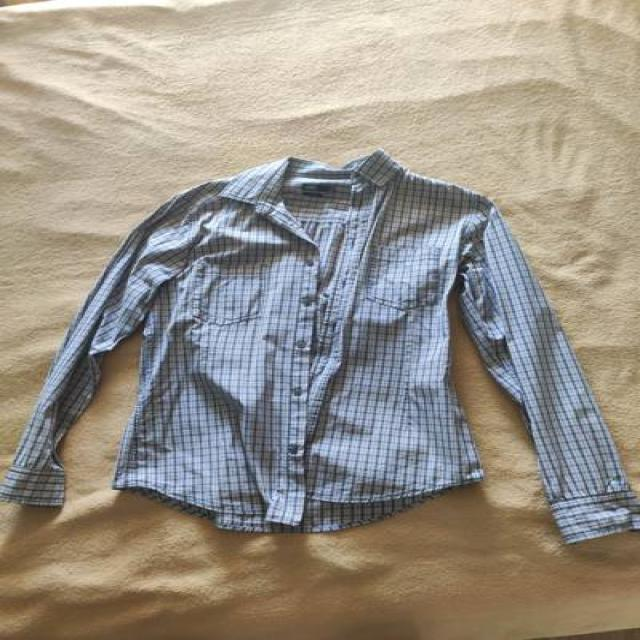Clothes -Biodegradable-: (0, 149, 640, 545)
